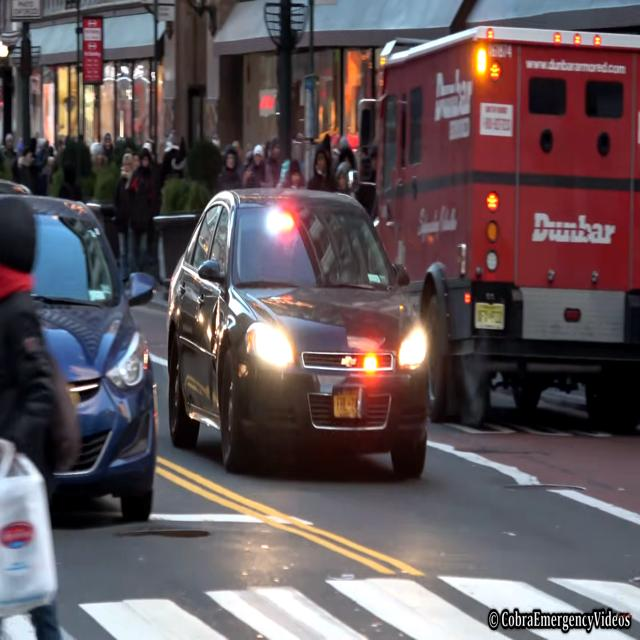emergency-vehicles: (149, 178, 459, 506)
